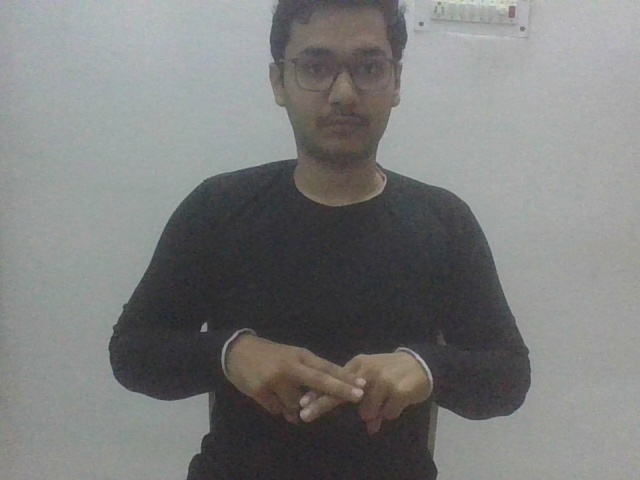F: (216, 327, 436, 441)
